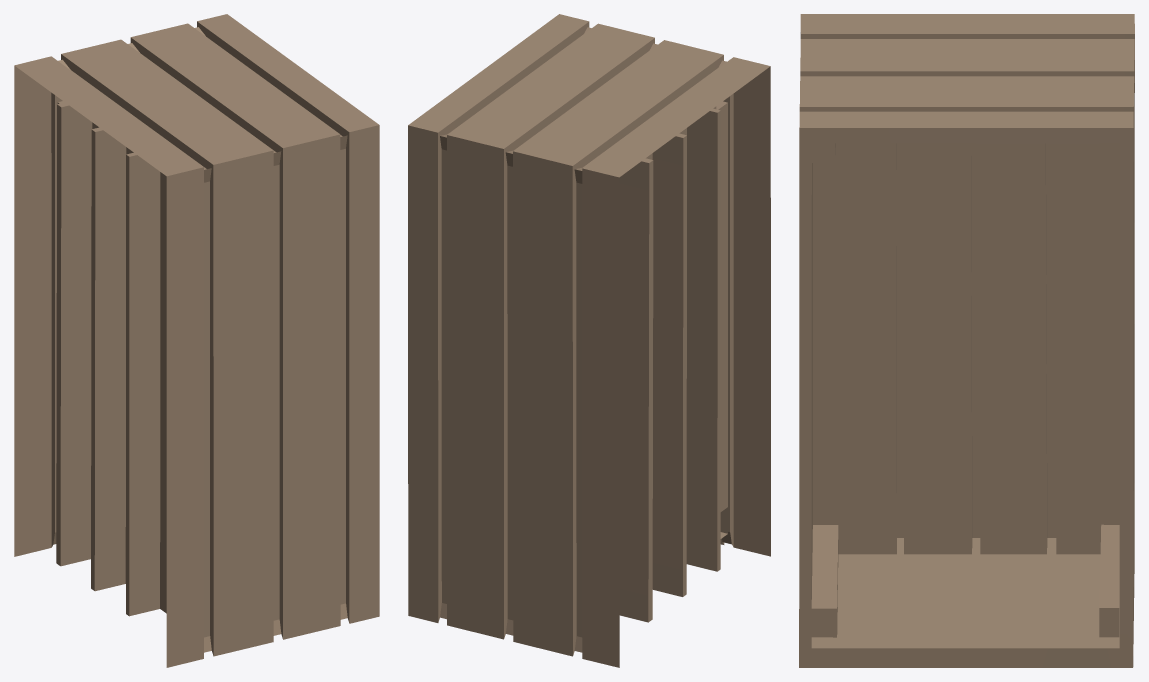
The picture shows the model from 3 angles, left to right: view 1: azimuth 30°, elevation 25°; view 2: azimuth 150°, elevation 25°; view 3: azimuth 270°, elevation 25°; orthographic projection. The views are drawn at different scales.
Parts seen in each view (by area): view 1: youleback16; view 2: youleback16; view 3: youleback16.
Part boxes in pixels (x1=…): youleback16: x1=14, y1=14, x2=379, y2=667; youleback16: x1=408, y1=14, x2=770, y2=667; youleback16: x1=799, y1=14, x2=1134, y2=667.
Size of the model in its own units: 1.68 by 3.7 by 2.08.
